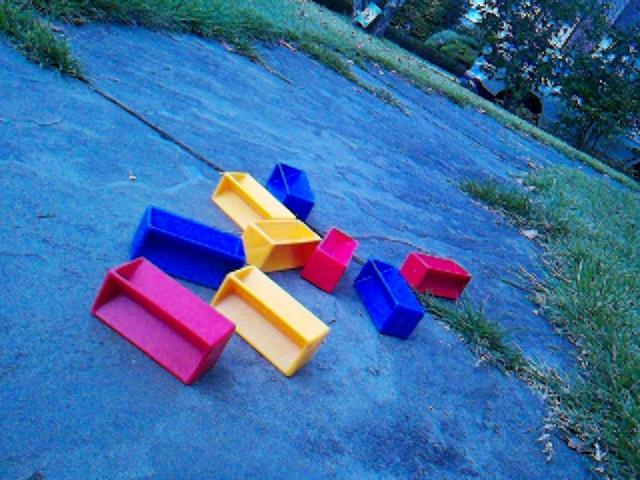blue: (129, 203, 248, 290), (353, 257, 426, 340), (265, 161, 316, 222)
red: (90, 255, 237, 386), (300, 226, 358, 294), (400, 250, 473, 301)
yellow: (210, 264, 331, 378), (211, 170, 296, 231), (242, 218, 322, 272)
